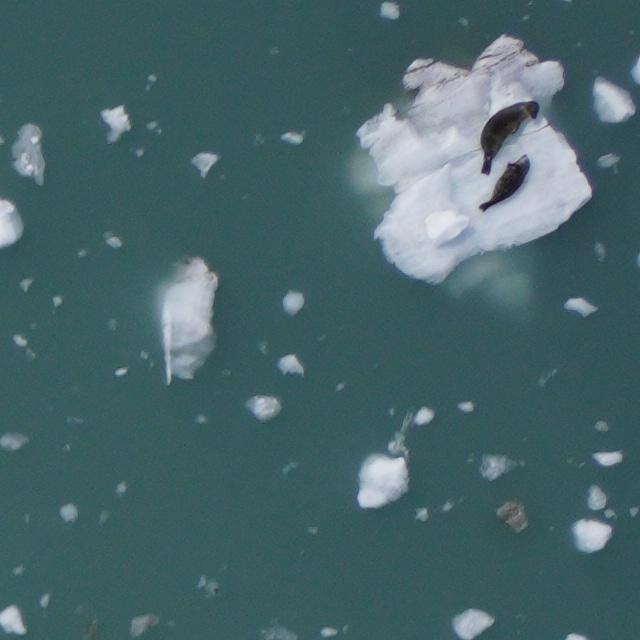seal: (459, 85, 544, 178), (478, 147, 537, 221)
